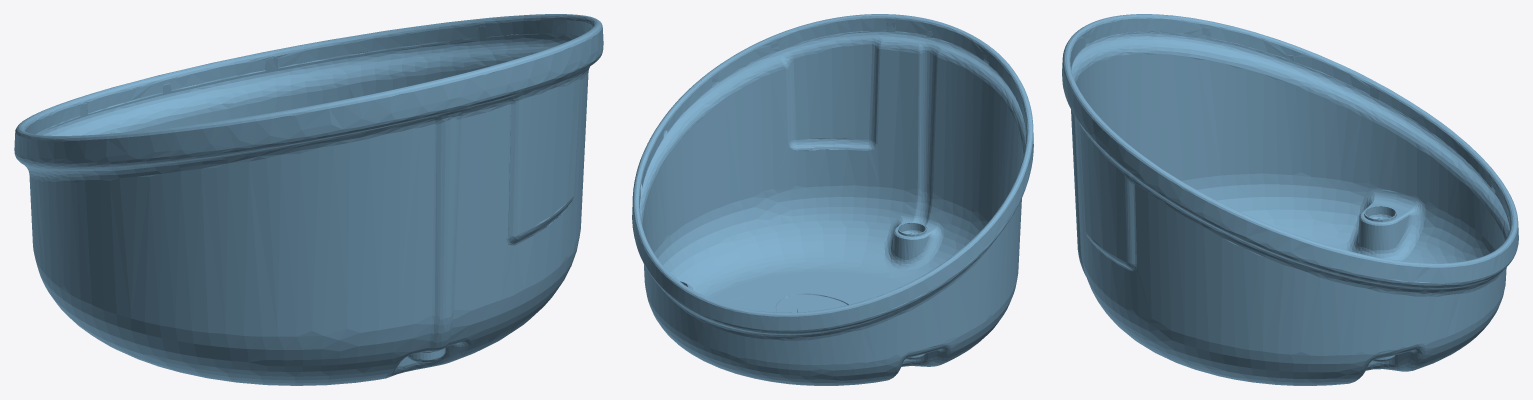
Rendered from accurate_urdf_static_16505_wrist_2_link_visual_vis_2.dae.
3 views of the same model, side by side, from view 1: azimuth 30°, elevation 25°; view 2: azimuth 150°, elevation 25°; view 3: azimuth 270°, elevation 25° (orthographic). The views are drawn at different scales.
Parts seen in each view (by area): view 1: node; view 2: node; view 3: node.
Part boxes in pixels (box(x1,y1,x2,y2)): node: box(14, 14, 603, 385); node: box(632, 14, 1033, 385); node: box(1062, 14, 1518, 385).
Size of the model in its own units: 0.0787 by 0.0492 by 0.0787.
